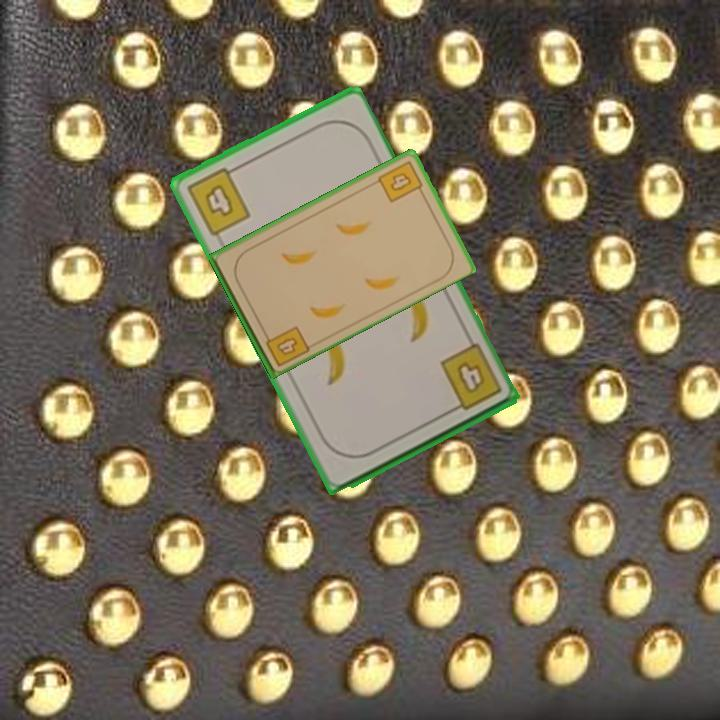4b: (182, 161, 253, 239), (435, 340, 505, 416), (374, 157, 427, 205), (260, 322, 312, 369)
